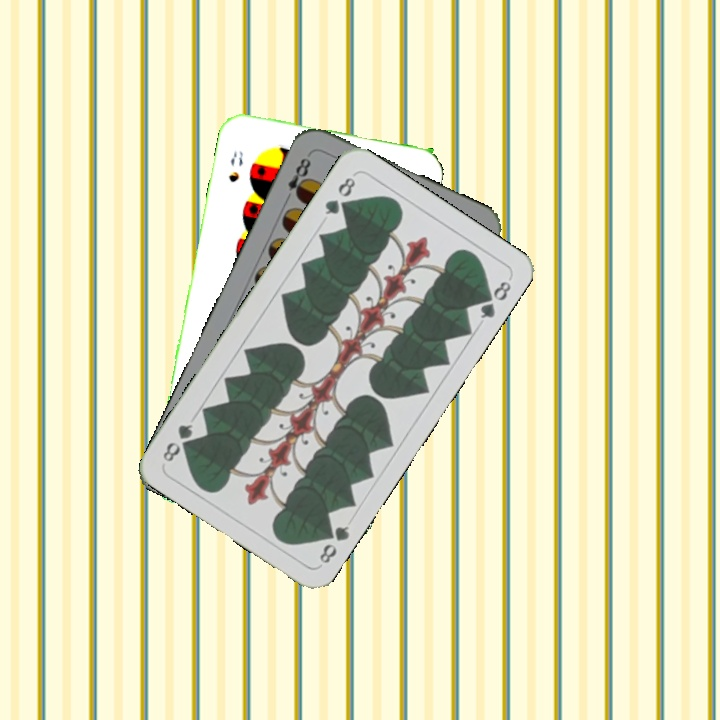E8: (281, 150, 314, 205)
G8: (320, 171, 359, 217), (315, 521, 352, 566)
S8: (225, 146, 246, 185)
